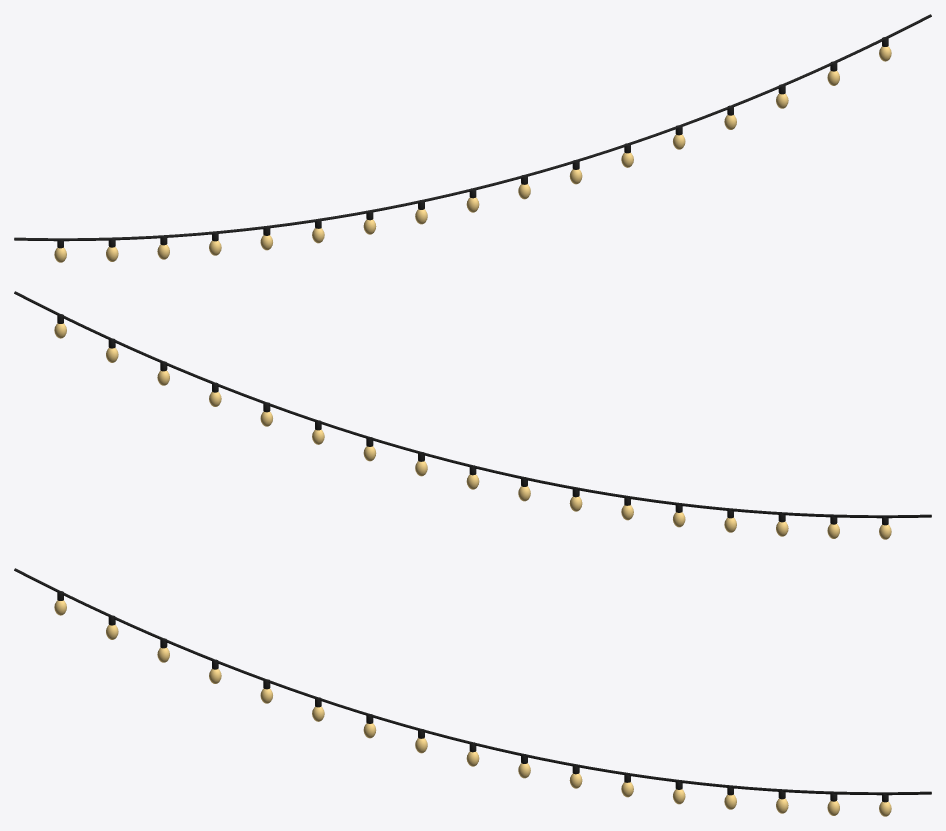
The model's file is PrimeCutLights.obj.
3 views of the same model, one above another, from view 1: azimuth 30°, elevation 25°; view 2: azimuth 150°, elevation 25°; view 3: azimuth 330°, elevation 25° (orthographic).
Visible parts, largest first — view 1: Wire, Bulbs; view 2: Wire, Bulbs; view 3: Wire, Bulbs.
Part boxes in pixels (<box>): Wire: <box>14,14,931,248</box>; Bulbs: <box>54,46,891,262</box>; Wire: <box>14,291,931,525</box>; Bulbs: <box>54,323,891,539</box>; Wire: <box>14,568,931,802</box>; Bulbs: <box>54,600,891,816</box>.
Size of the model in its own units: 40.03 by 3.6 by 0.48.
